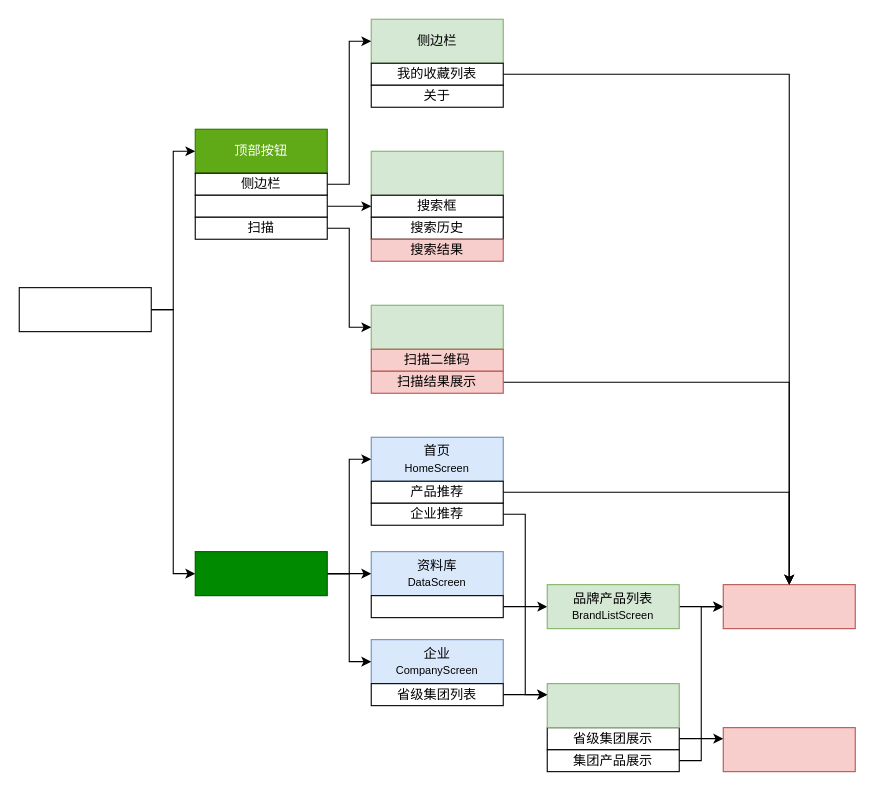
The diagram is 875 pixels wide and 791 high, and some of its shapes have lost their labels. The box of each missing label's shape, as (x1, y1, x2, y2) in pixels:
App: (18, 287, 151, 332)
下属企业展示 ModalBottomSheet: (722, 727, 855, 772)
产品展示 ProductShowScreen: (722, 584, 855, 629)
品牌列表: (370, 595, 503, 618)
底部导航: (194, 551, 327, 596)
扫描页面 CodeScannerScreen: (370, 304, 503, 349)
搜索: (194, 194, 327, 217)
搜索页面（未做） SearchScreen: (370, 150, 503, 195)
省级集团展示 GroupShowScreen: (546, 683, 679, 728)
